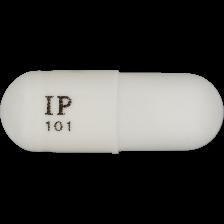33261-048: (0, 0, 224, 224)
